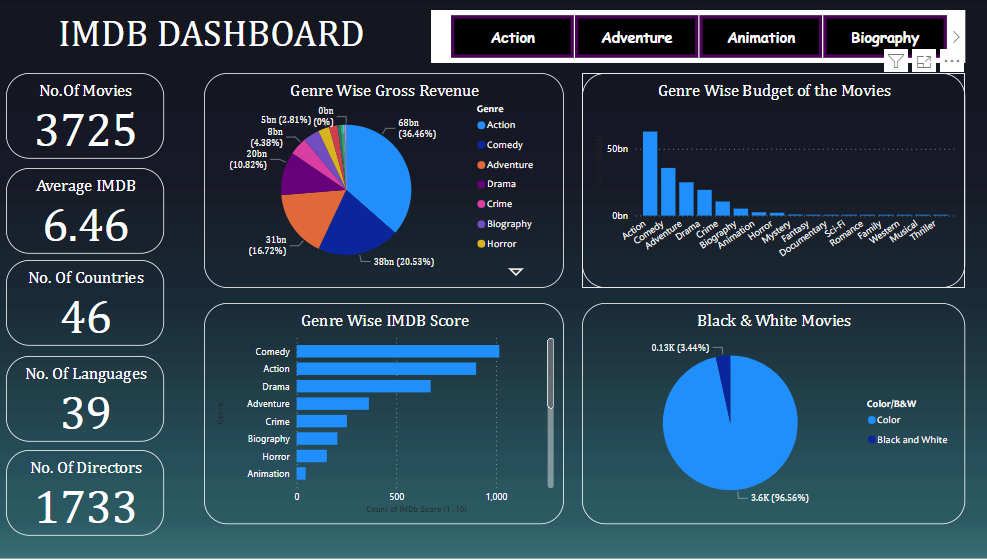

The page's visual inventory and layout, read from the dashboard file:
{"tool":"powerbi","page":{"name":"Page 1","canvas":[1280,720],"ordinal":0},"visuals":[{"type":"card","title":"No.Of Movies","fields":{"Values":["IMDB Dataset.Title"]},"box":[10.3,93.7,202.8,110.4],"z":0},{"type":"card","title":"Average IMDB ","fields":{"Values":["IMDB Dataset.IMDb Score (1-10)"]},"box":[10.3,215.7,202.8,110.4],"z":1000},{"type":"card","title":"No. Of Countries","fields":{"Values":["IMDB Dataset.Country"]},"box":[10.3,333.8,202.8,110.4],"z":2000},{"type":"card","title":"No. Of Languages","fields":{"Values":["IMDB Dataset.Language"]},"box":[10.3,457.1,202.8,110.4],"z":3000},{"type":"card","title":"No. Of Directors","fields":{"Values":["IMDB Dataset.Director Name"]},"box":[10.3,577.7,202.8,110.4],"z":4000},{"type":"barChart","title":"Genre Wise IMDB Score","fields":{"Category":["IMDB Dataset.Genre"],"Y":["IMDB Dataset.IMDb Score (1-10)"]},"box":[264.5,389,462.2,283.7],"z":5000},{"type":"pieChart","title":"Genre Wise Gross Revenue","fields":{"Category":["IMDB Dataset.Genre"],"Y":["IMDB Dataset.Gross Revenue"]},"box":[264.5,93.7,462.2,276],"z":6000},{"type":"slicer","fields":{"Values":["IMDB Dataset.Genre"]},"box":[555.9,12.8,685.6,68],"z":7000},{"type":"pieChart","title":"Black & White Movies","fields":{"Category":["IMDB Dataset.Color/B&W"],"Y":["IMDB Dataset.Title"]},"box":[749.8,389,491.7,283.7],"z":8000},{"type":"columnChart","title":"Genre Wise Budget of the Movies","fields":{"Category":["IMDB Dataset.Genre"],"Y":["IMDB Dataset.Budget"]},"box":[749.8,93.7,491.7,276],"z":9000},{"type":"textbox","box":[10.3,12.8,527.7,68],"z":10000}]}

Visuals, with their boxes in screenshot pixels (x1, y1, x2, y2), scaled from the page's 1280x720 canvas onto the 987x560 screenshot:
"No.Of Movies" card: region(8, 73, 164, 159)
"Average IMDB " card: region(8, 168, 164, 254)
"No. Of Countries" card: region(8, 260, 164, 345)
"No. Of Languages" card: region(8, 356, 164, 441)
"No. Of Directors" card: region(8, 449, 164, 535)
"Genre Wise IMDB Score" barChart: region(204, 303, 560, 523)
"Genre Wise Gross Revenue" pieChart: region(204, 73, 560, 288)
slicer - IMDB Dataset.Genre: region(429, 10, 957, 63)
"Black & White Movies" pieChart: region(578, 303, 957, 523)
"Genre Wise Budget of the Movies" columnChart: region(578, 73, 957, 288)
textbox: region(8, 10, 415, 63)
